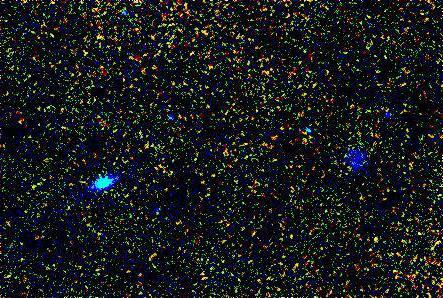star: (356, 223, 386, 253)
